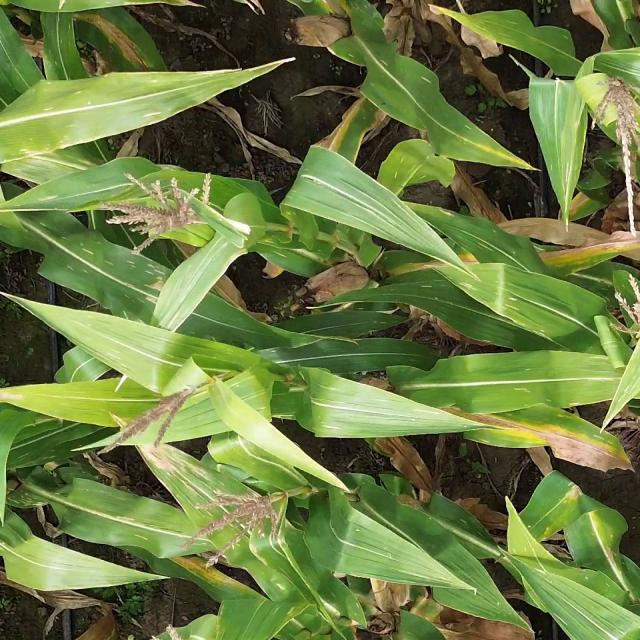gray-leaf-spot: (354, 45, 514, 176), (23, 216, 205, 326), (106, 448, 252, 553), (396, 266, 566, 351), (466, 15, 616, 92), (296, 380, 436, 456)
northern-leaf-blight: (464, 395, 640, 478)
southern-leaf-blight: (1, 63, 178, 161), (476, 461, 590, 590), (318, 571, 432, 640)
